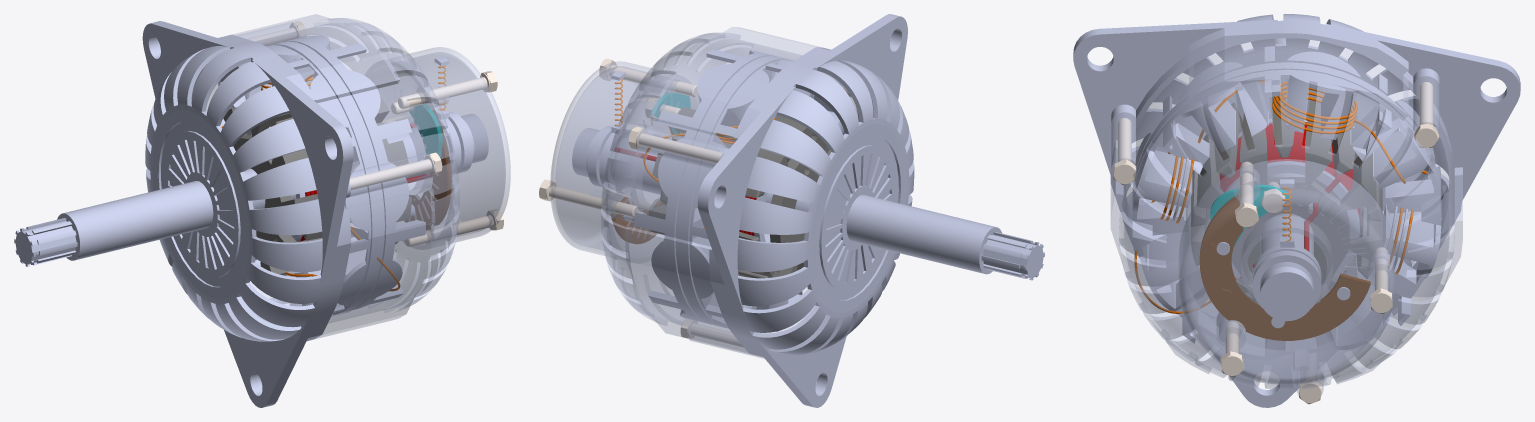
File: alternator.glb
3 views of the same model, side by side, from view 1: azimuth 30°, elevation 25°; view 2: azimuth 150°, elevation 25°; view 3: azimuth 270°, elevation 25° (orthographic). The views are drawn at different scales.
Parts seen in each view (by area): view 1: alternator bracket 1-1, alternator bracket 2-1, coil1-1, shaft-1, alternator rectifier cover-1, rectifier-1, coil3-1, hex screw gradec_iso-9, hex screw gradec_iso-8, hex screw gradec_iso-10, coil3-2, hex screw gradec_iso-3; view 2: alternator bracket 1-1, alternator bracket 2-1, coil1-1, shaft-1, alternator rectifier cover-1, coil3-1, rectifier-1, hex screw gradec_iso-11, hex screw gradec_iso-3, hex screw gradec_iso-9, coil3-2, hex screw gradec_iso-14 (+1 smaller); view 3: alternator bracket 2-1, coil1-1, alternator rectifier cover-1, alternator bracket 1-1, coil3-2, rectifier-1, shaft-1, coil3-1, coil2-1, hex screw gradec_iso-3, hex screw gradec_iso-8, hex screw gradec_iso-9 (+5 smaller).
Boxes of the visible parts, box(x1,y1,x2,y2) form: alternator bracket 1-1: box(142, 21, 353, 407); alternator bracket 2-1: box(206, 14, 459, 339); coil1-1: box(218, 35, 425, 314); shaft-1: box(14, 112, 488, 266); alternator rectifier cover-1: box(383, 47, 510, 244); rectifier-1: box(405, 104, 451, 229); coil3-1: box(223, 107, 383, 273); hex screw gradec_iso-9: box(398, 71, 497, 108); hex screw gradec_iso-8: box(349, 152, 442, 189); hex screw gradec_iso-10: box(404, 209, 503, 246); coil3-2: box(260, 97, 411, 263); hex screw gradec_iso-3: box(248, 21, 306, 45); alternator bracket 1-1: box(697, 14, 914, 407); alternator bracket 2-1: box(601, 27, 858, 358); coil1-1: box(634, 49, 844, 331); shaft-1: box(572, 126, 1044, 280); alternator rectifier cover-1: box(550, 61, 680, 257); coil3-1: box(660, 115, 830, 277); rectifier-1: box(611, 92, 690, 243); hex screw gradec_iso-11: box(539, 179, 638, 217); hex screw gradec_iso-3: box(628, 126, 721, 163); hex screw gradec_iso-9: box(599, 58, 697, 96); coil3-2: box(648, 107, 816, 278); hex screw gradec_iso-14: box(680, 318, 743, 347); alternator bracket 2-1: box(1111, 33, 1462, 395); coil1-1: box(1132, 46, 1441, 370); alternator rectifier cover-1: box(1179, 159, 1394, 384); alternator bracket 1-1: box(1073, 14, 1520, 407); coil3-2: box(1191, 100, 1382, 290); rectifier-1: box(1199, 184, 1370, 340); shaft-1: box(1252, 38, 1321, 321); coil3-1: box(1191, 89, 1382, 299); coil2-1: box(1219, 118, 1359, 287); hex screw gradec_iso-3: box(1414, 82, 1438, 147); hex screw gradec_iso-8: box(1113, 118, 1136, 185); hex screw gradec_iso-9: box(1235, 161, 1258, 228).
Size of the model in its own units: 0.215 by 0.1557 by 0.165.
